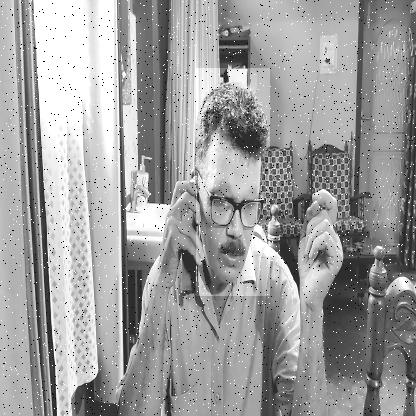Normal: (195, 68, 270, 296)
